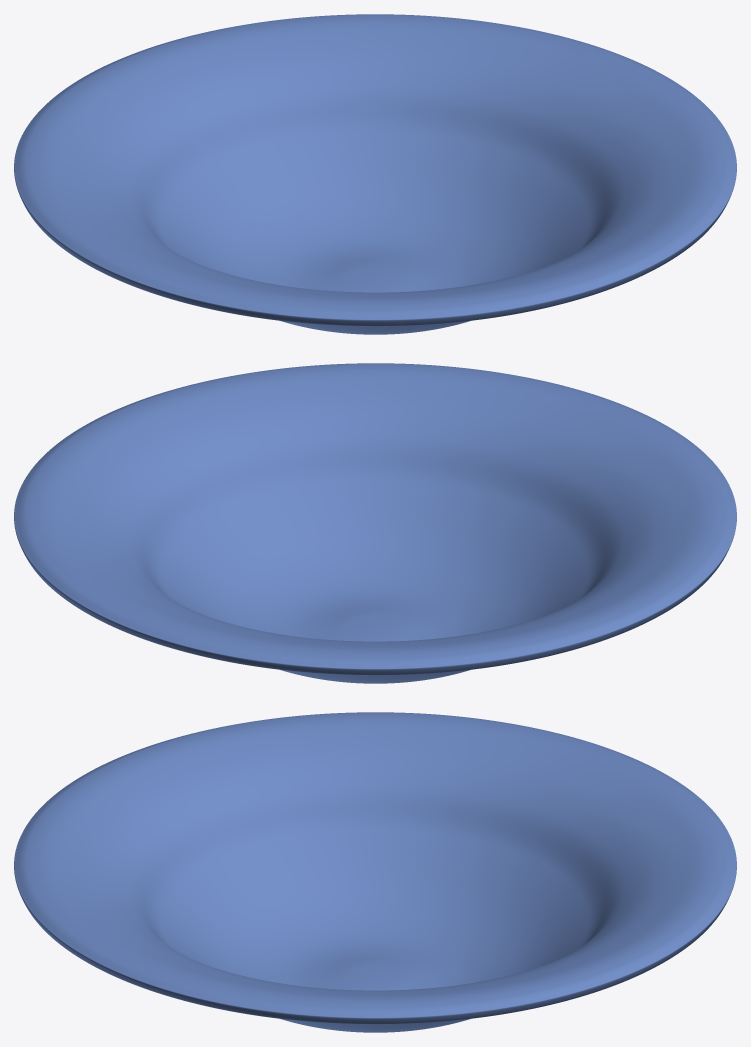
3 views of the same model, one above another, from view 1: azimuth 30°, elevation 25°; view 2: azimuth 150°, elevation 25°; view 3: azimuth 270°, elevation 25° (orthographic).
Visible parts, largest first — view 1: Plate; view 2: Plate; view 3: Plate.
Part boxes in pixels (left/top/right/bottom): Plate: left=14, top=14, right=736, bottom=334; Plate: left=14, top=363, right=736, bottom=683; Plate: left=14, top=712, right=736, bottom=1032.
Size of the model in its own units: 0.3006 by 0.0582 by 0.3006.
